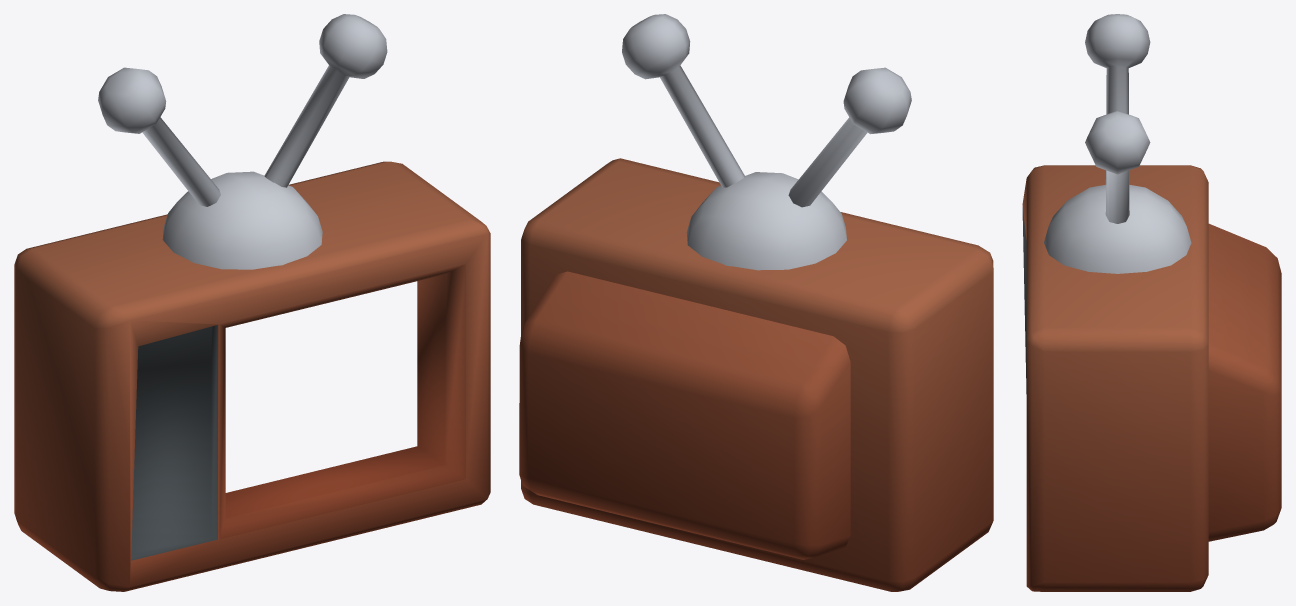
Rendered from TV_edited.glb.
The picture shows the model from 3 angles, left to right: view 1: azimuth 30°, elevation 25°; view 2: azimuth 150°, elevation 25°; view 3: azimuth 270°, elevation 25°; orthographic projection. The views are drawn at different scales.
Parts seen in each view (by area): view 1: tv_C_brown; view 2: tv_C_brown; view 3: tv_C_brown.
Boxes of the visible parts, bbox=[...] form: tv_C_brown: bbox=[14, 14, 490, 591]; tv_C_brown: bbox=[519, 14, 993, 591]; tv_C_brown: bbox=[1022, 14, 1281, 591].
Size of the model in its own units: 1.5 by 1.74 by 0.9249.
1 material, 1 textured.
